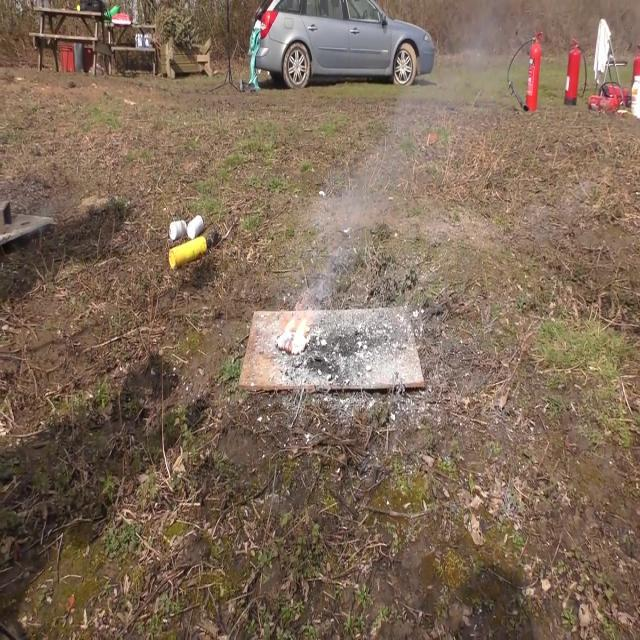Fire: (280, 304, 312, 354)
